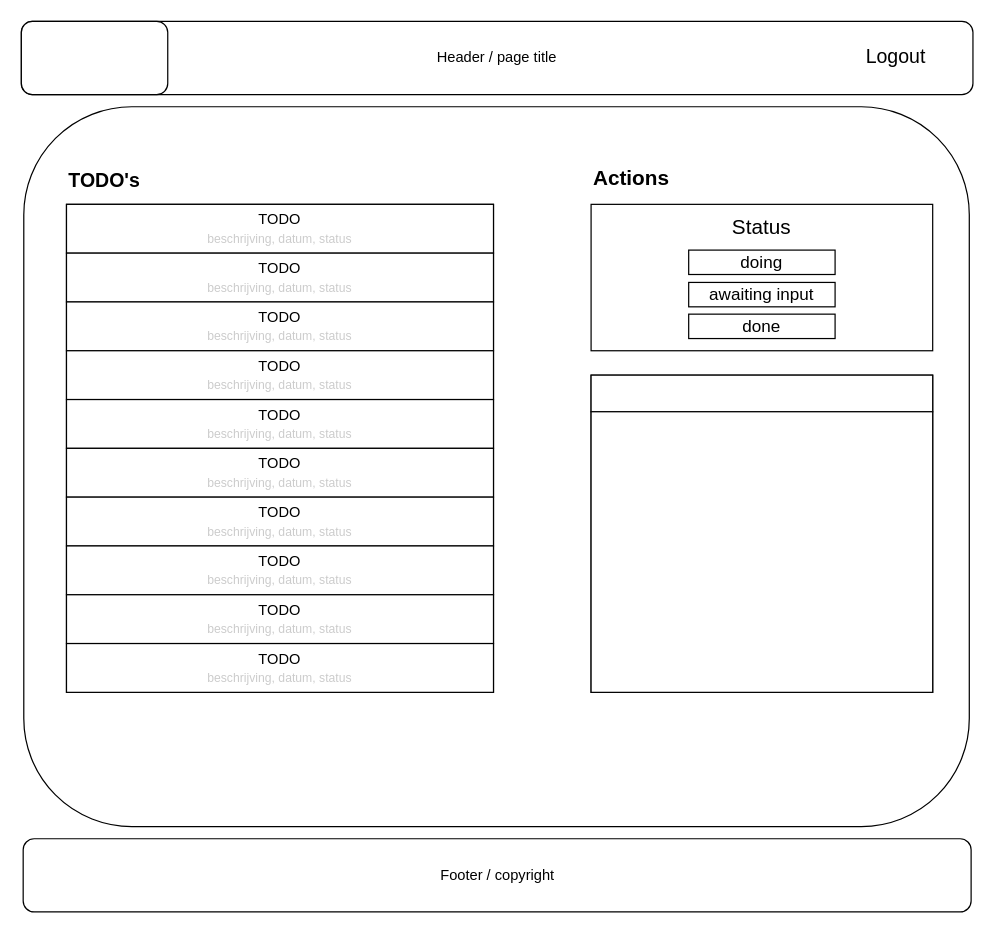
Some shapes in this 994 by 933 pixel diagram are drawn without their labels. Here are the shapes that lost their labels. From the top down, the box of each, then its label:
(20, 20, 168, 95): Logo
(590, 374, 933, 412): TODO
(590, 411, 933, 692): Beschrijving
